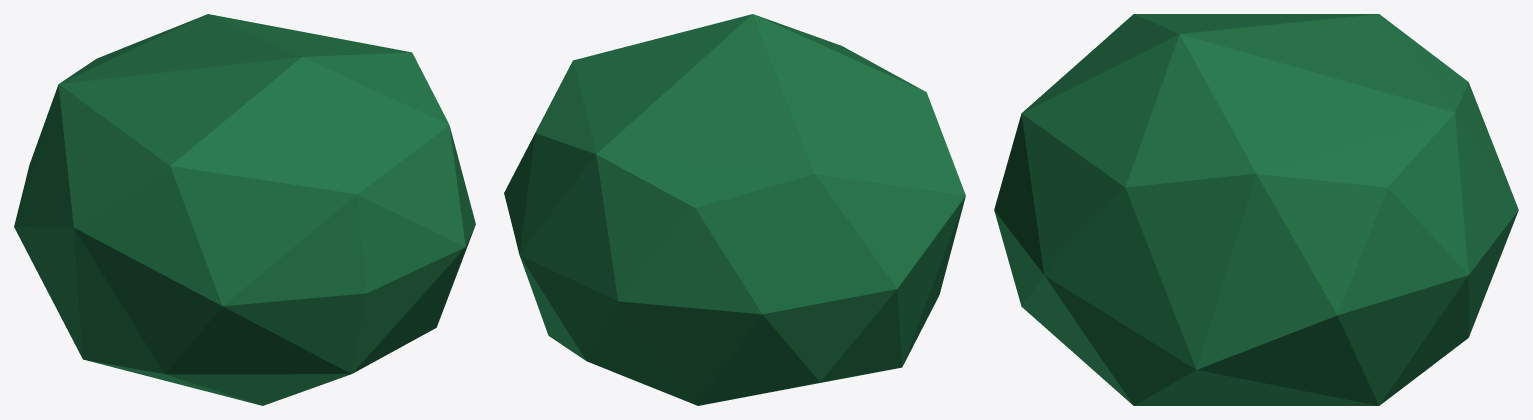
File: bush1.fbx
3 renders of one model, left to right at view 1: azimuth 30°, elevation 25°; view 2: azimuth 150°, elevation 25°; view 3: azimuth 270°, elevation 25°, orthographic. The views are drawn at different scales.
Parts seen in each view (by area): view 1: Icosphere; view 2: Icosphere; view 3: Icosphere.
Part boxes in pixels (left/top/right/bottom): Icosphere: left=14, top=14, right=475, bottom=405; Icosphere: left=504, top=14, right=965, bottom=405; Icosphere: left=994, top=14, right=1518, bottom=405.
Size of the model in its own units: 194 by 157 by 200.
